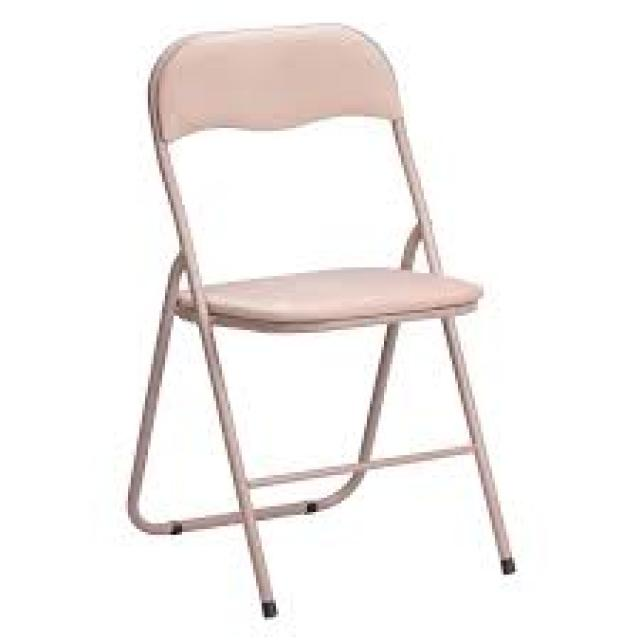chair: (79, 1, 564, 638)
